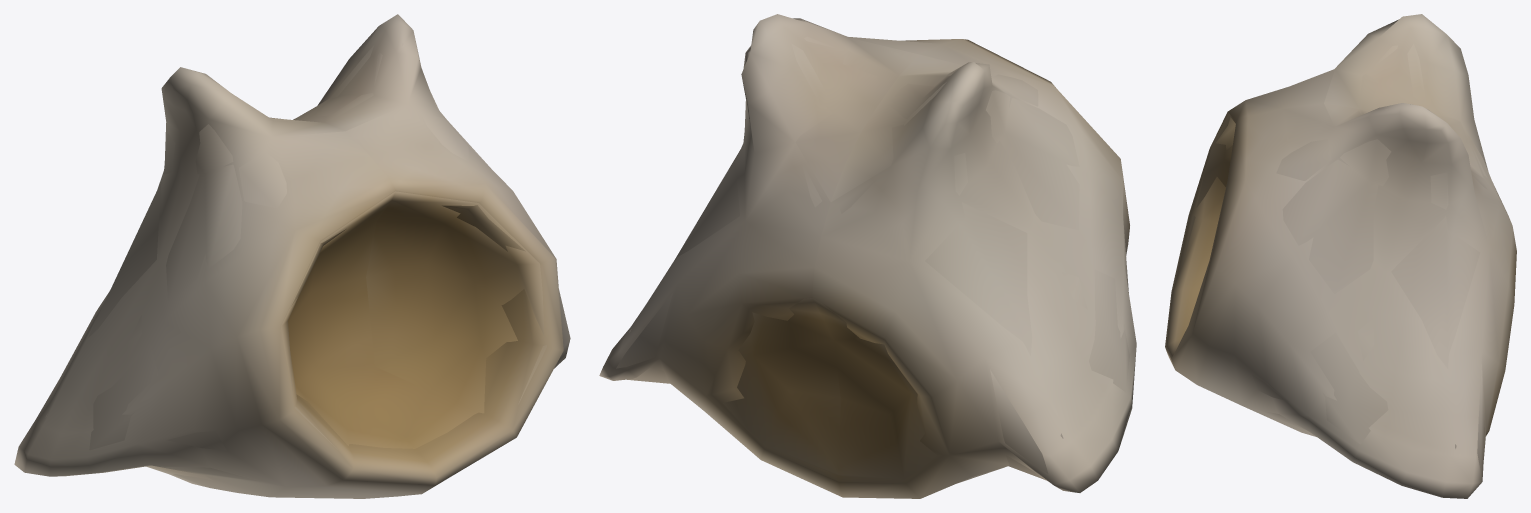
File: vertebrae caudales 07.fbx
The picture shows the model from 3 angles, left to right: view 1: azimuth 30°, elevation 25°; view 2: azimuth 150°, elevation 25°; view 3: azimuth 270°, elevation 25°; orthographic projection. The views are drawn at different scales.
Visible parts, largest first — view 1: vertebrae caudales 07, vertebrae caudales 07 low; view 2: vertebrae caudales 07, vertebrae caudales 07 low; view 3: vertebrae caudales 07, vertebrae caudales 07 low.
Part boxes in pixels (x1,y1,x2,y2): vertebrae caudales 07: [14, 14, 570, 498]; vertebrae caudales 07 low: [45, 42, 564, 481]; vertebrae caudales 07: [599, 14, 1136, 498]; vertebrae caudales 07 low: [616, 36, 1129, 483]; vertebrae caudales 07: [1165, 14, 1516, 498]; vertebrae caudales 07 low: [1181, 31, 1487, 470].
Bounding box in the file's own units: 1.46 × 1.25 × 1.01.
1 material, 1 textured.
